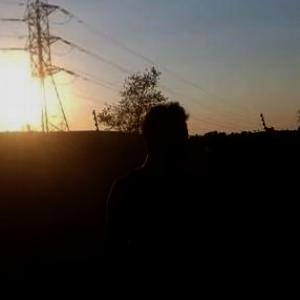follow: (105, 93, 229, 299)
